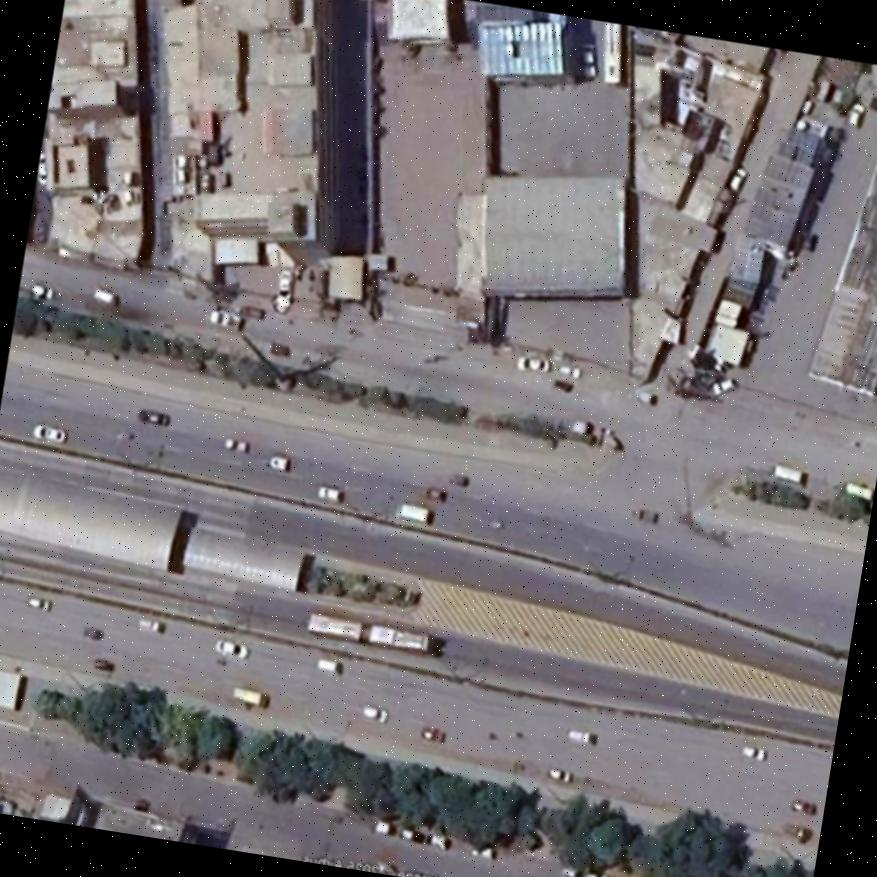Solarpanel: (479, 20, 562, 75)
